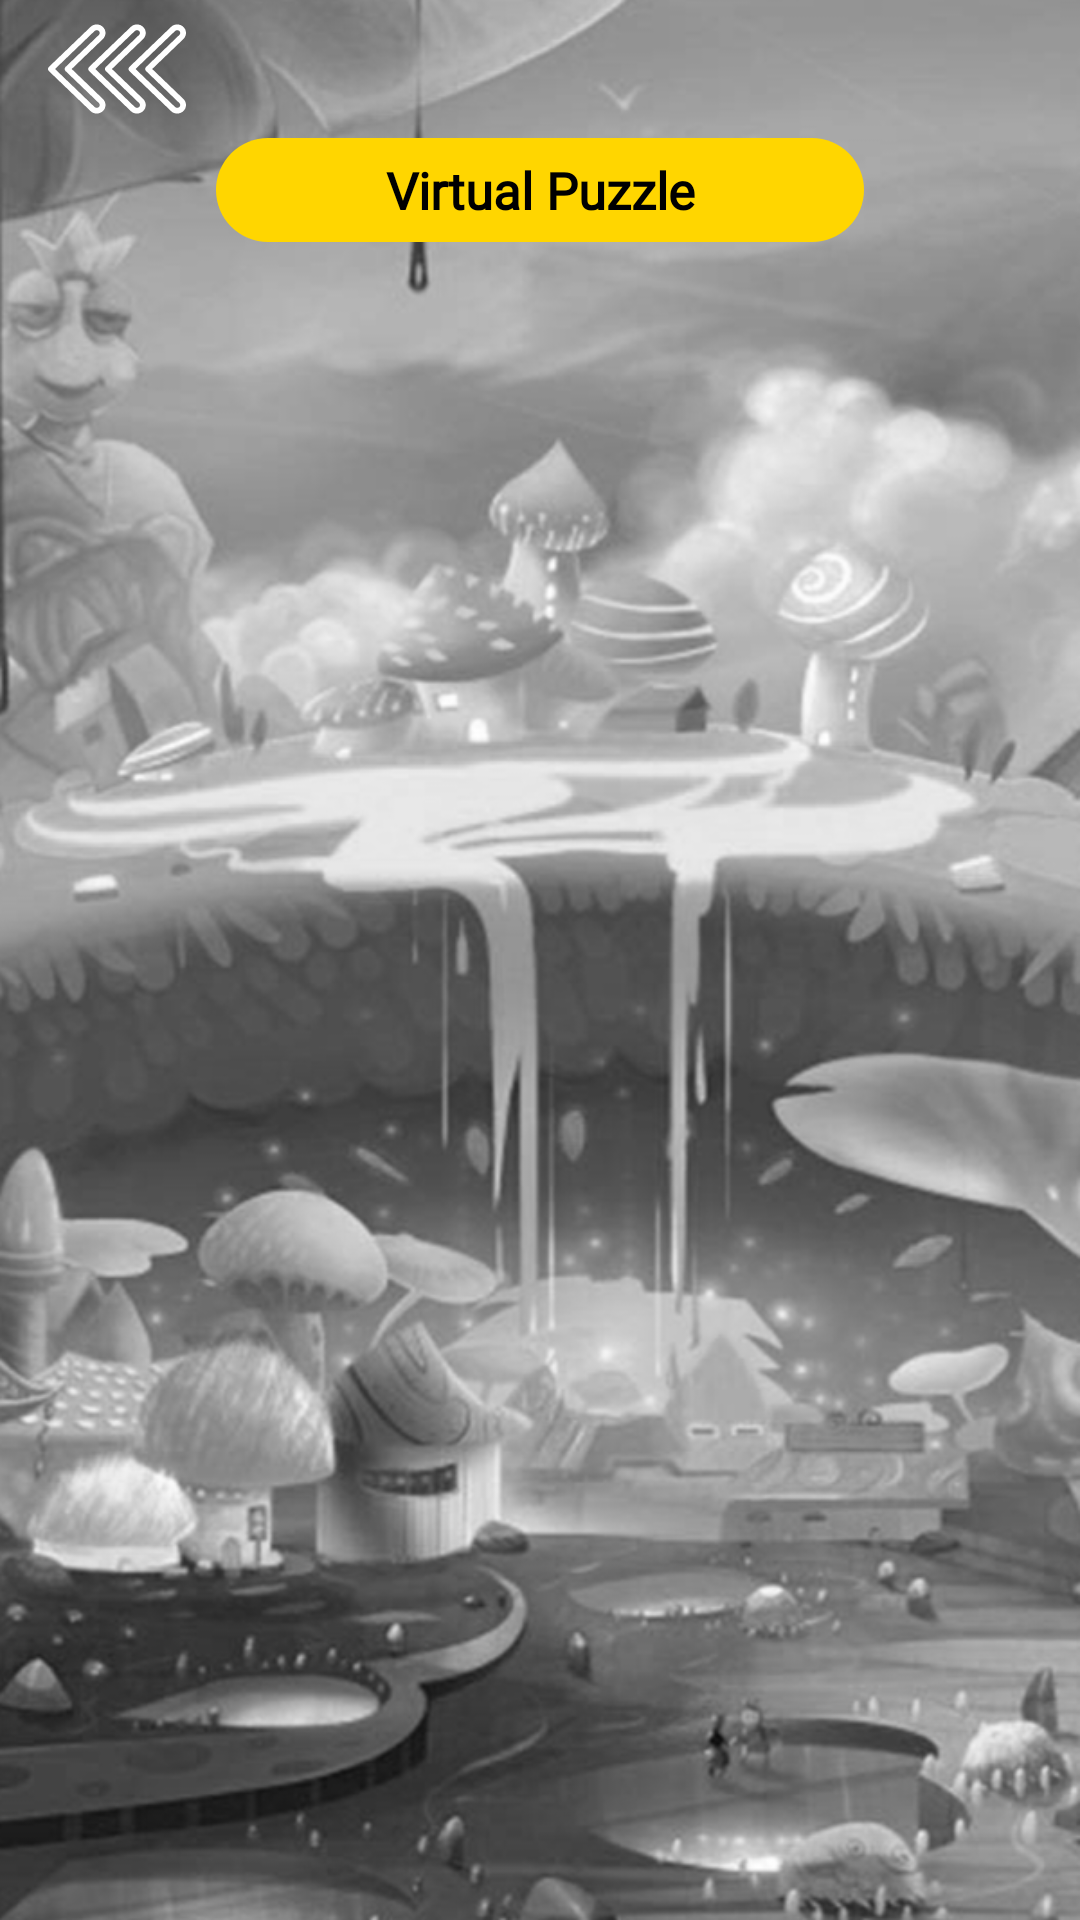

Icons on this 1080px x 1920px Android screen, each with its box as (x1=x1, y1=y1, x2=x2, y2=y2):
back arrow: (x1=88, y1=24, x2=186, y2=114)
